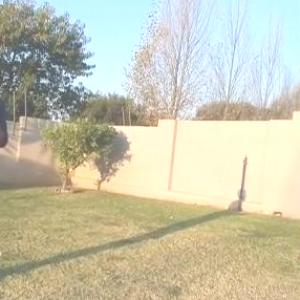follow: (0, 37, 14, 290)
